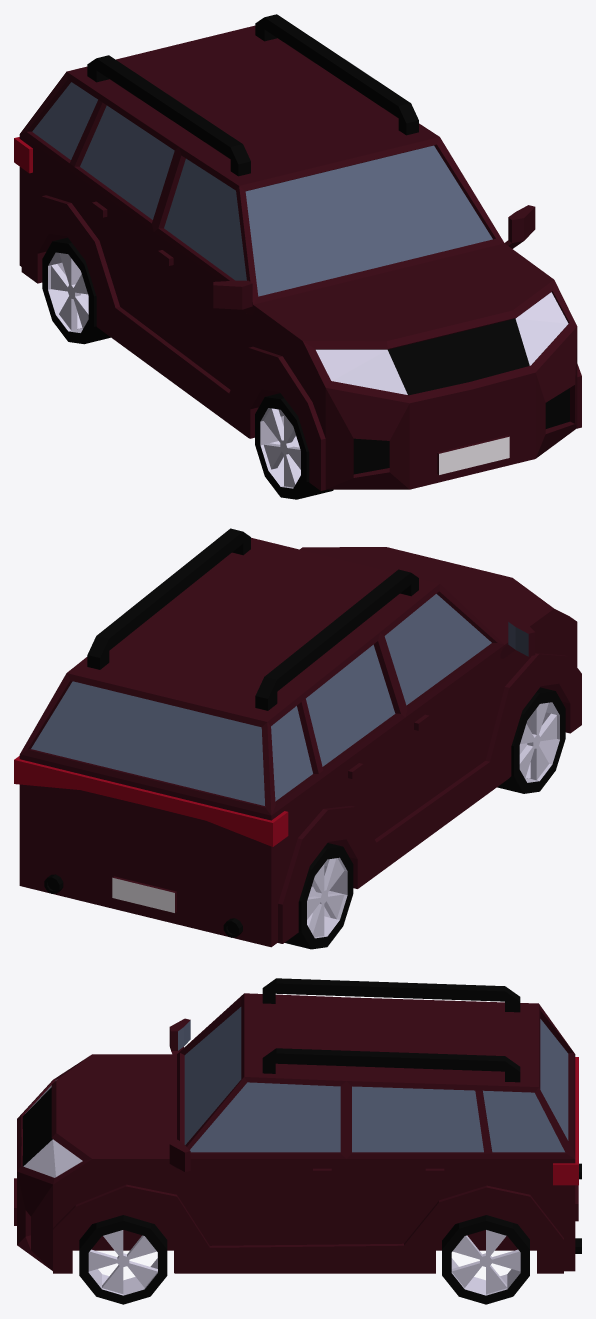
The model's file is SUV.glb.
3 views of the same model, one above another, from view 1: azimuth 30°, elevation 25°; view 2: azimuth 150°, elevation 25°; view 3: azimuth 270°, elevation 25° (orthographic). The views are drawn at different scales.
Visible parts, largest first — view 1: SUV; view 2: SUV; view 3: SUV.
Part boxes in pixels (x1,y1,x2,y2): SUV: [14, 14, 581, 499]; SUV: [14, 528, 581, 949]; SUV: [14, 978, 581, 1304].
Size of the model in its own units: 0.6168 by 0.5038 by 1.1.
